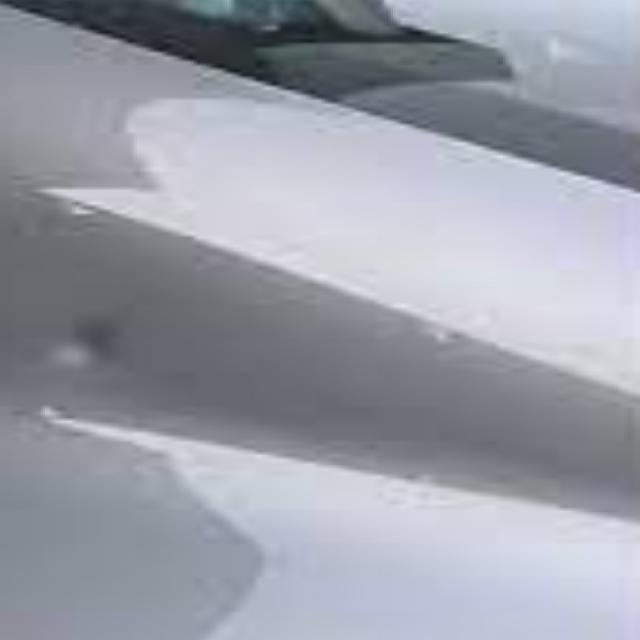dents: (12, 286, 186, 406)
